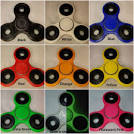fidget_spinner: (42, 42, 88, 88)
